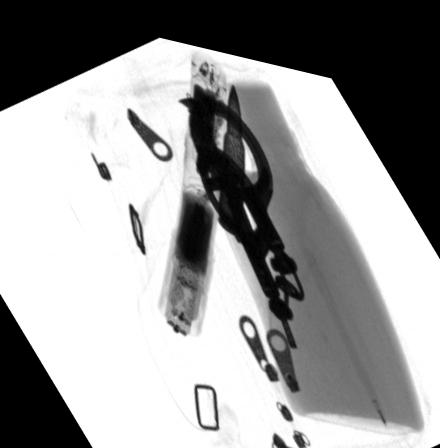Baton: (156, 38, 227, 328)
Bullet: (217, 68, 244, 224)
Gun: (195, 135, 299, 335)
HandCuffs: (174, 72, 305, 307)
